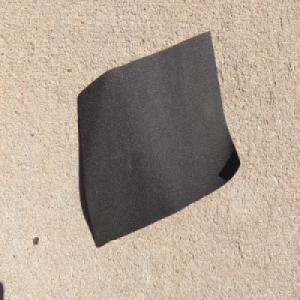PaintChip: (77, 30, 243, 253)
